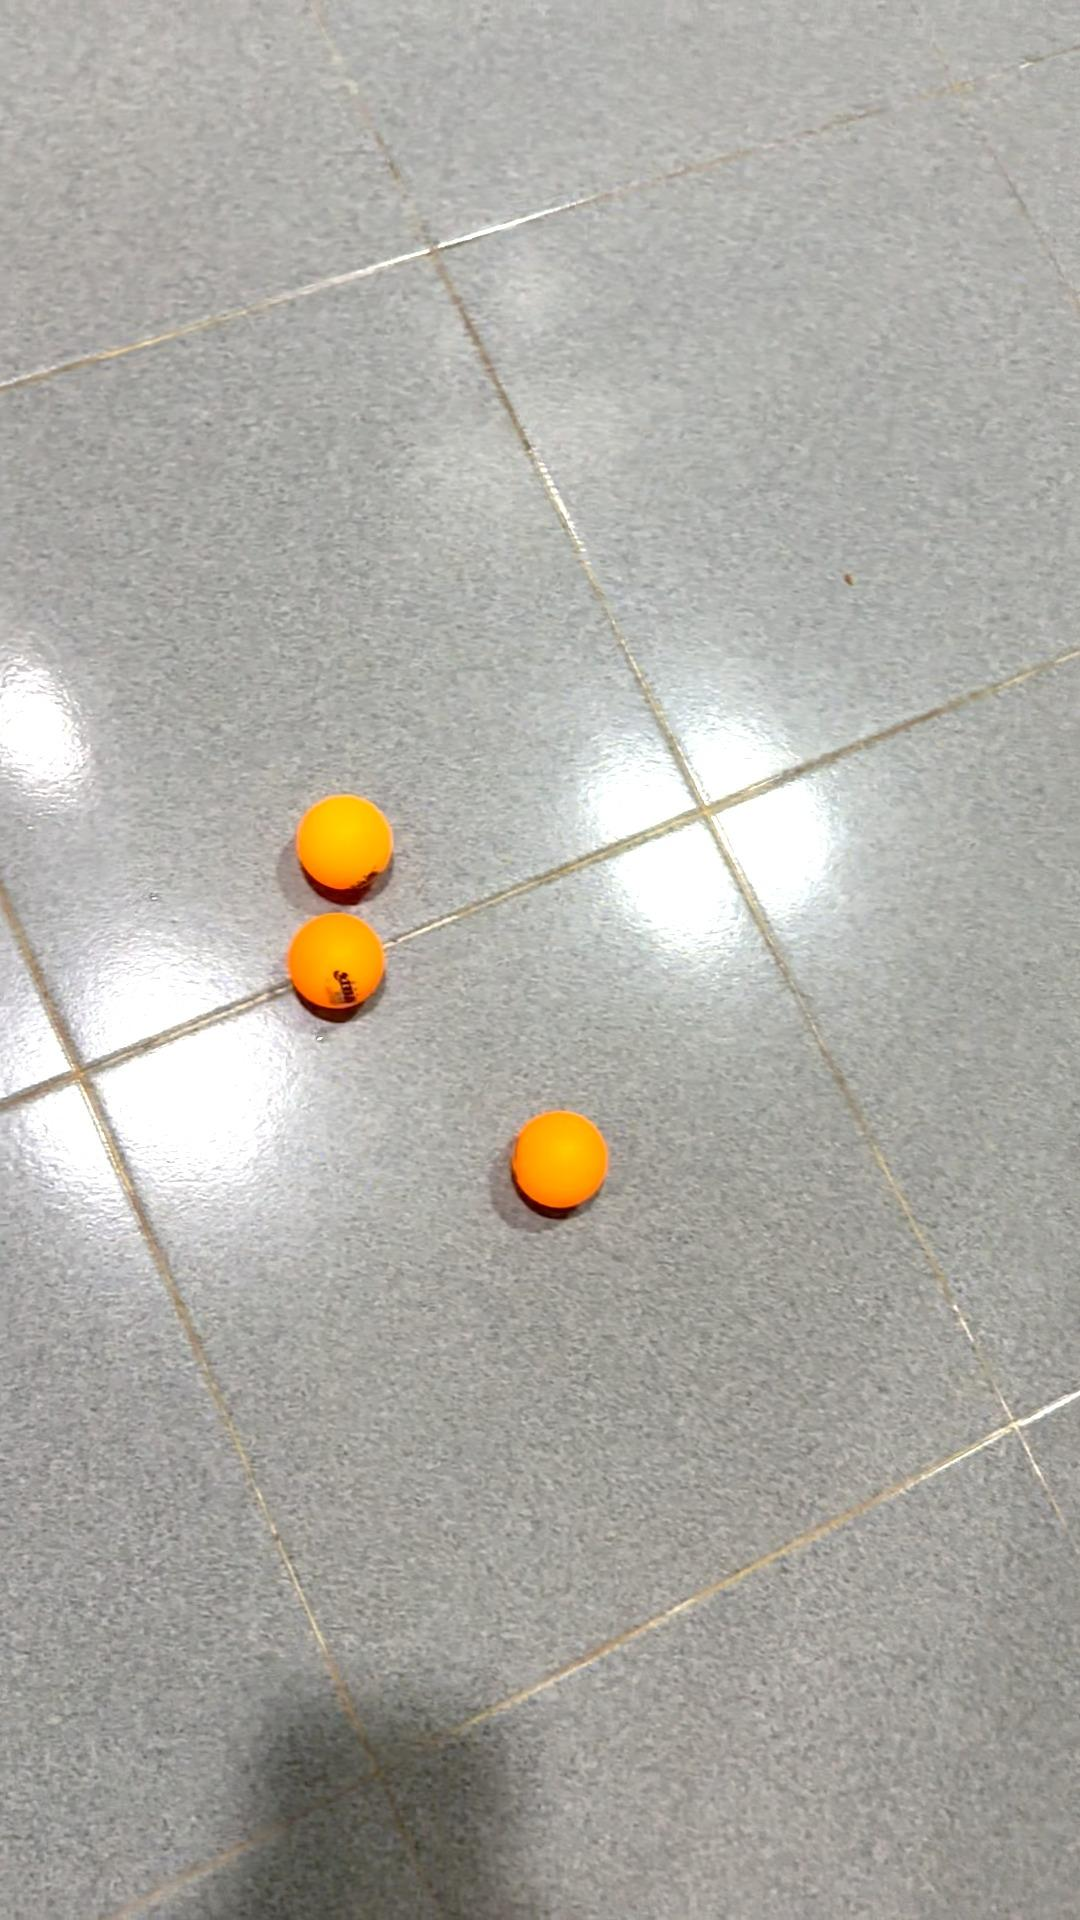oball: (278, 894, 400, 1026), (501, 1101, 620, 1233), (287, 791, 400, 913)
